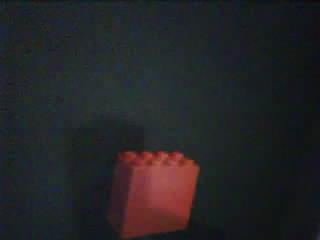lego: (102, 148, 201, 240)
